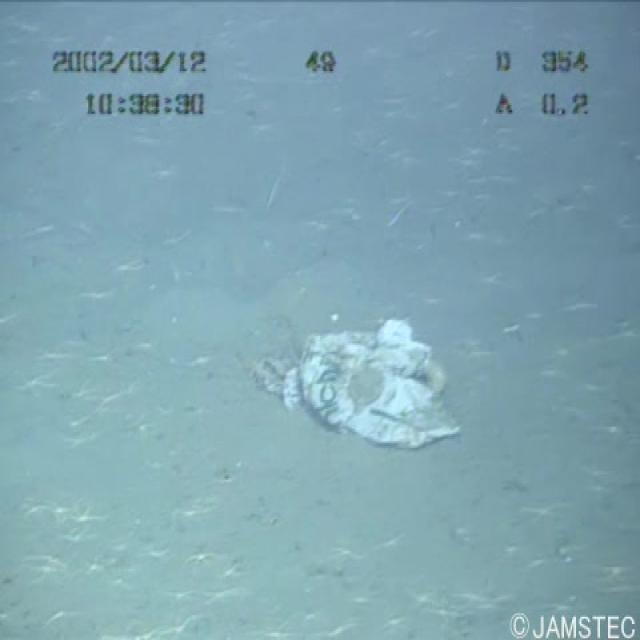plastic: (232, 292, 480, 464)
